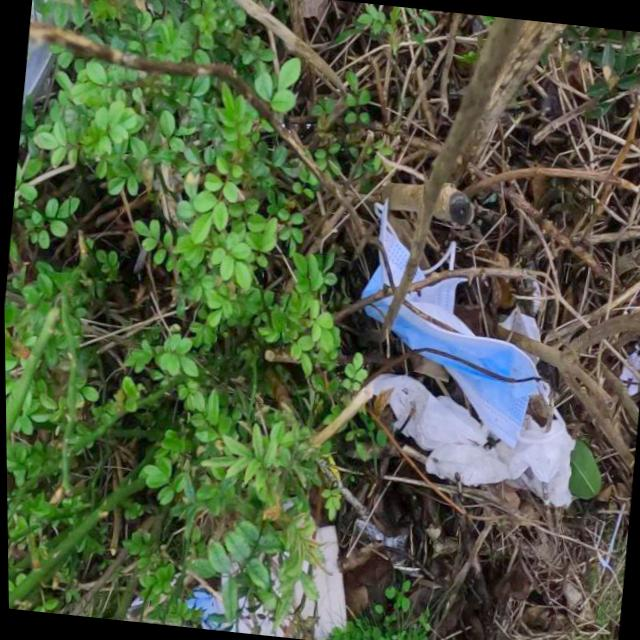Mask: (344, 193, 587, 456)
Paper: (351, 370, 583, 510)
